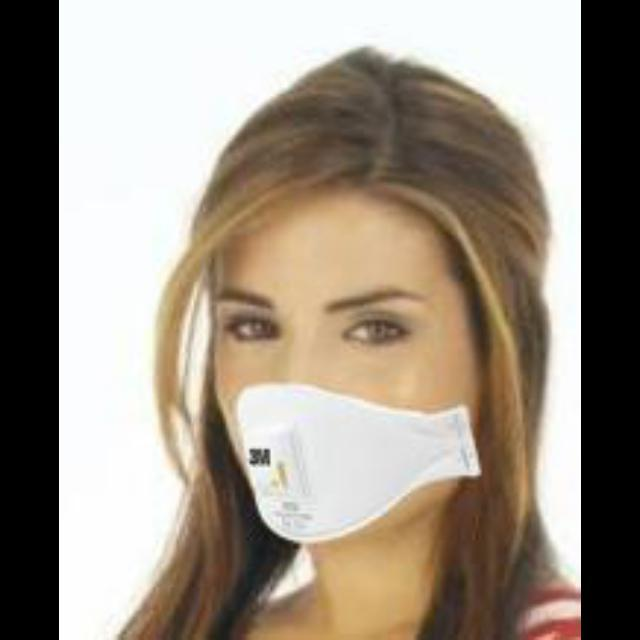suspicion: (126, 50, 556, 560)
